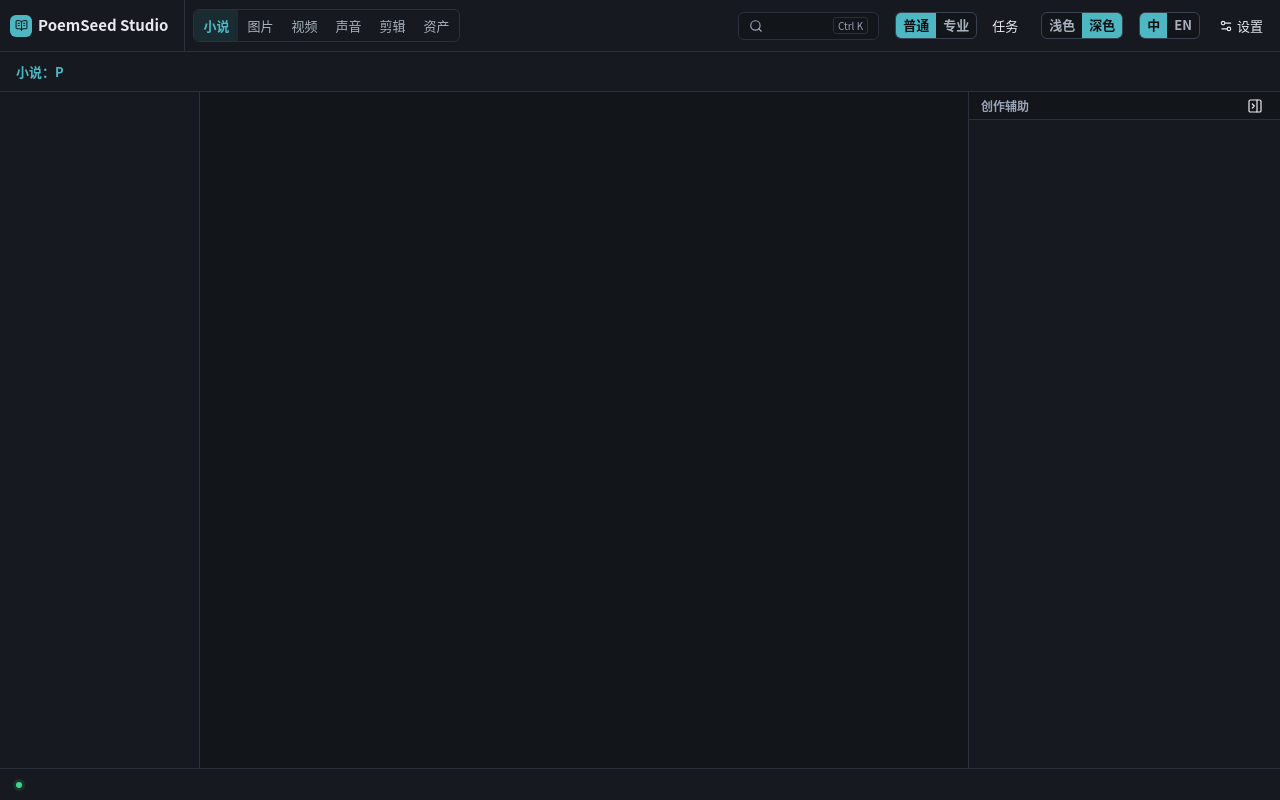
Test: shell under en › toggle switches without reload; migrated header/status/inspector contain no Chinese and no raw keys
Expected: the tab "小说" is shown, [194,10,238,41]
Click the button "EN".
click(1183, 25)  # box [1167,13,1199,38]
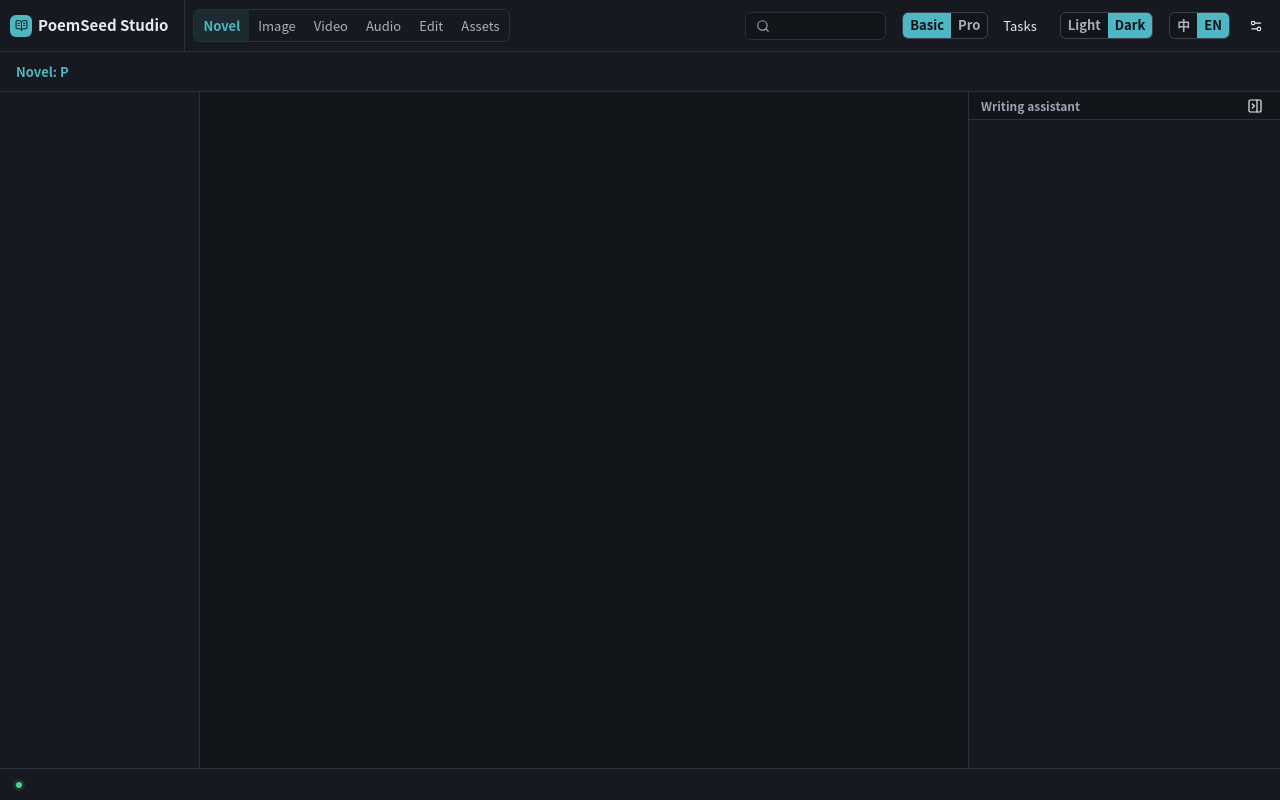
Expected: the tab "Novel" is shown, [194,10,249,41]
Click the button "中".
click(1184, 25)  # box [1170,13,1197,38]
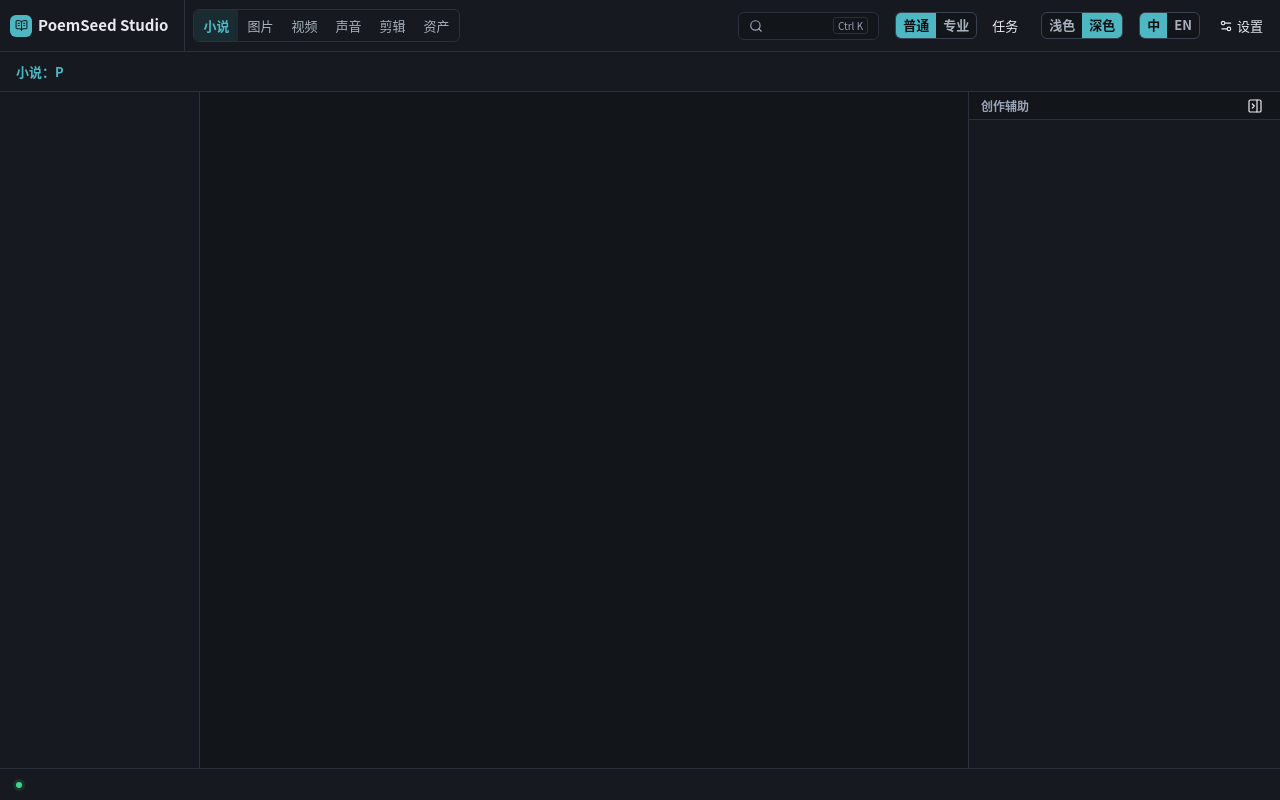
Result: the tab "小说" is shown at [194,10,238,41]
